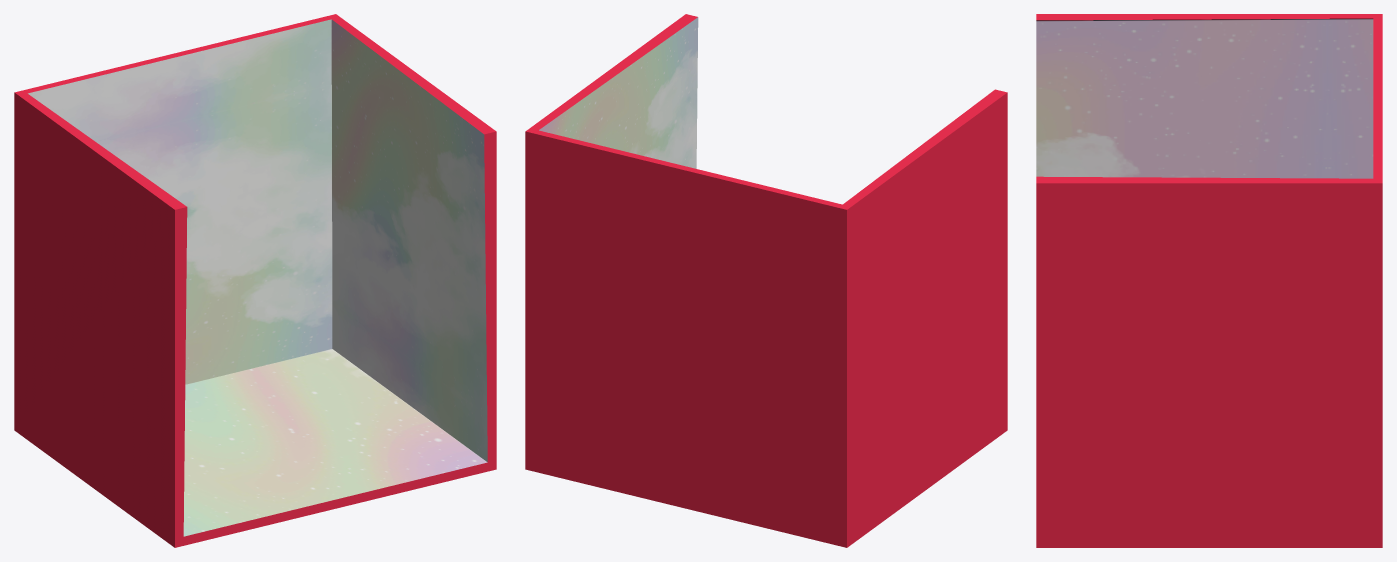
Rendered from holyduvar.obj.
The picture shows the model from 3 angles, left to right: view 1: azimuth 30°, elevation 25°; view 2: azimuth 150°, elevation 25°; view 3: azimuth 270°, elevation 25°; orthographic projection. The views are drawn at different scales.
Visible parts, largest first — view 1: Cube.063_pinkkkk.010, Cube.063_pinkkkk; view 2: Cube.063_pinkkkk, Cube.063_pinkkkk.010; view 3: Cube.063_pinkkkk, Cube.063_pinkkkk.010.
Part boxes in pixels (bbox=[...]): Cube.063_pinkkkk.010: bbox=[28, 19, 487, 536]; Cube.063_pinkkkk: bbox=[14, 14, 496, 547]; Cube.063_pinkkkk: bbox=[525, 14, 1007, 547]; Cube.063_pinkkkk.010: bbox=[539, 17, 698, 168]; Cube.063_pinkkkk: bbox=[1036, 14, 1382, 547]; Cube.063_pinkkkk.010: bbox=[1036, 18, 1373, 178].
Size of the model in its own units: 228 by 229 by 197.
